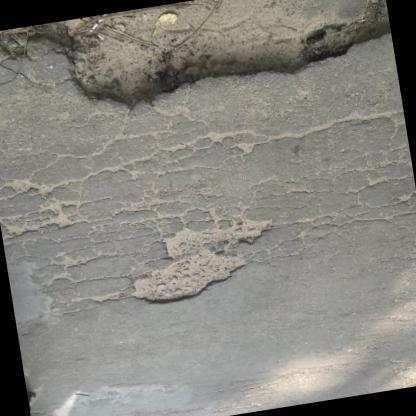pothole: (0, 0, 396, 137), (122, 214, 286, 311)
